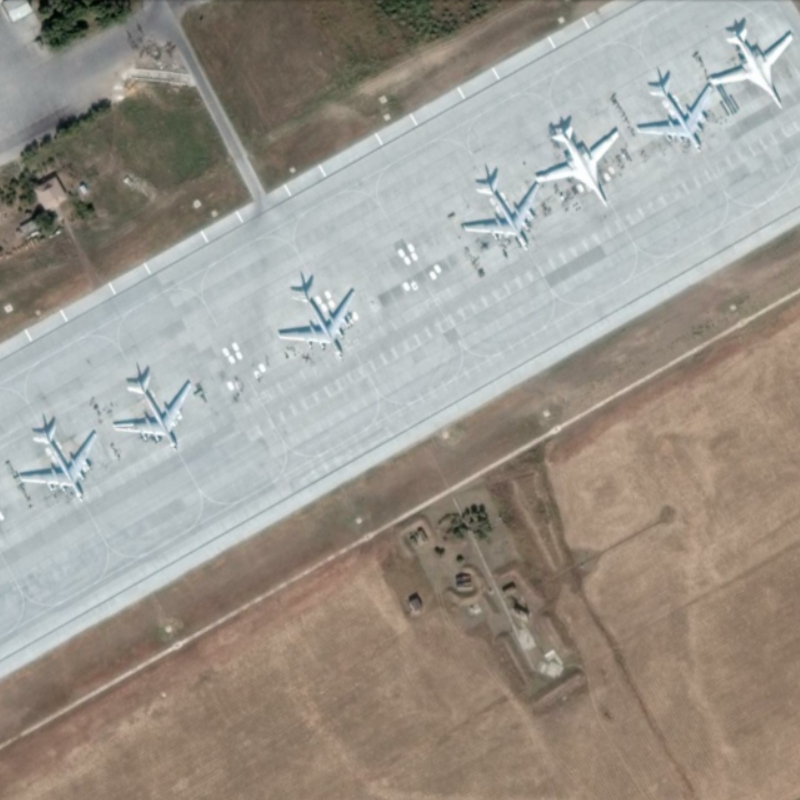A17: (108, 371, 197, 454), (17, 420, 100, 505), (458, 172, 541, 252), (276, 284, 357, 363), (635, 74, 711, 154)
A6: (532, 118, 624, 211), (709, 21, 796, 112)
